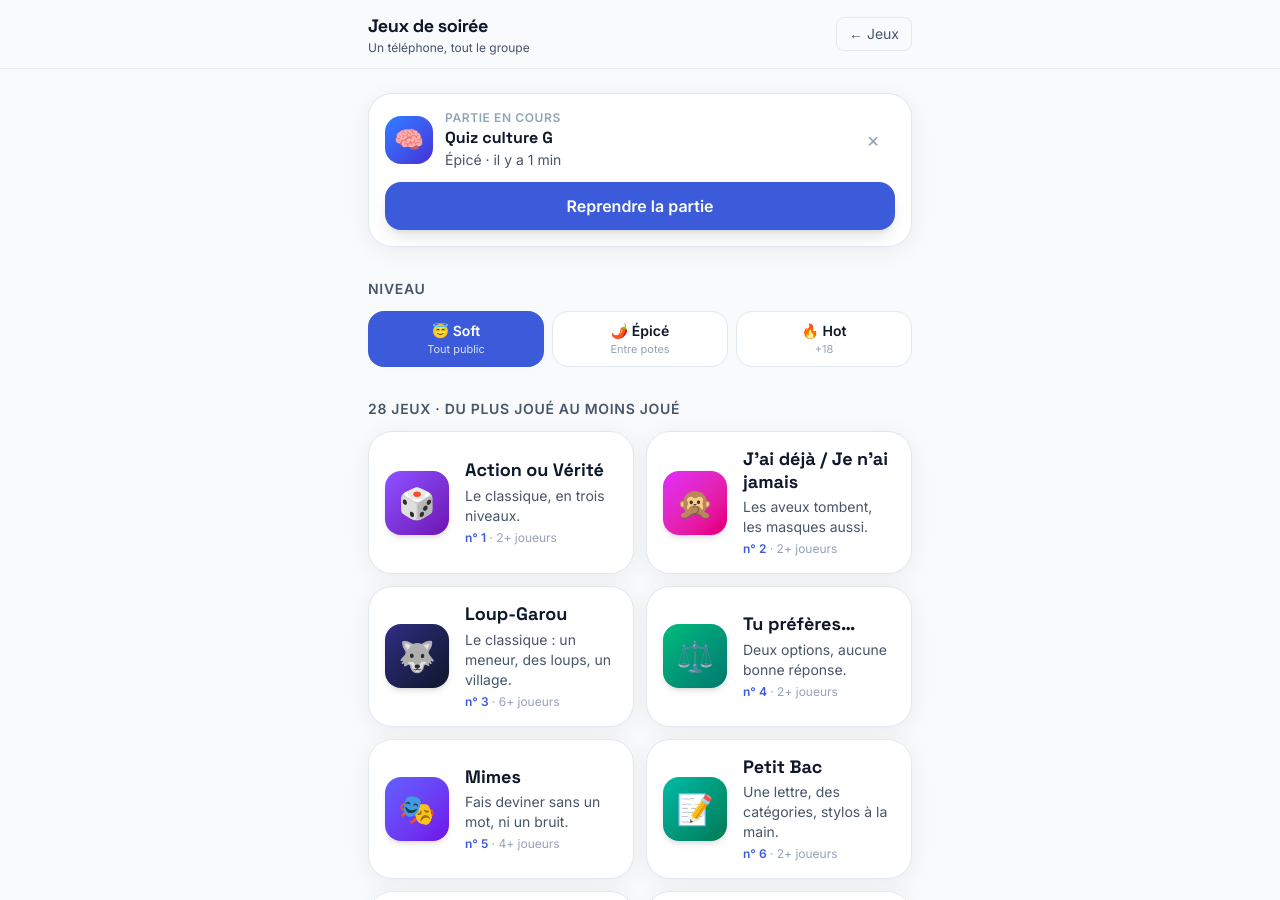
Test case: accueil des jeux de soirée › reprend la partie au niveau où elle a été jouée
This screenshot has width=1280, height=900.
Click the link "Reprendre la partie": (640, 206) [385,182,895,230]
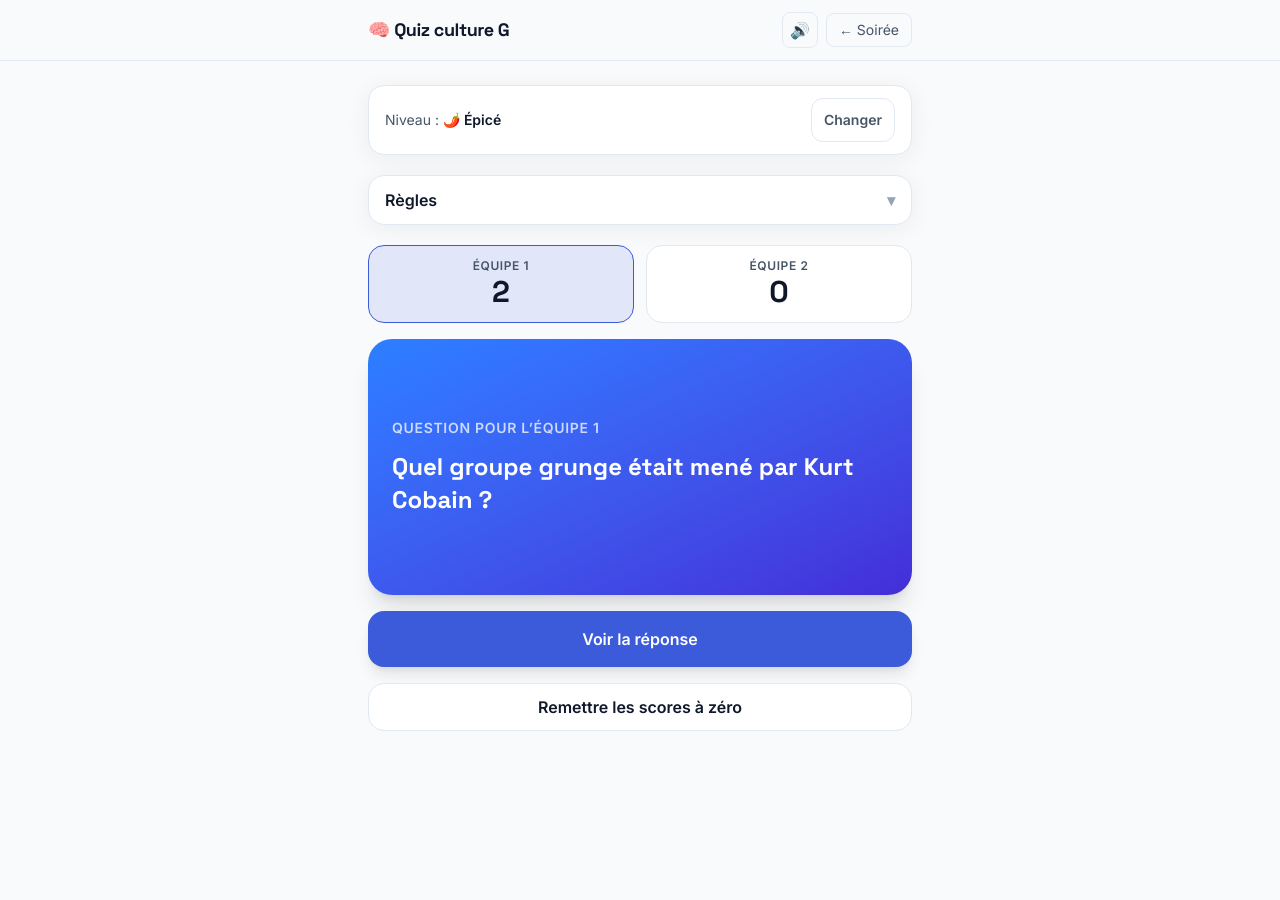
Expected: the text "Épicé" is shown, [464,111,501,128]
Result: the button "Remettre les scores à zéro" is shown at [368,683,912,731]
